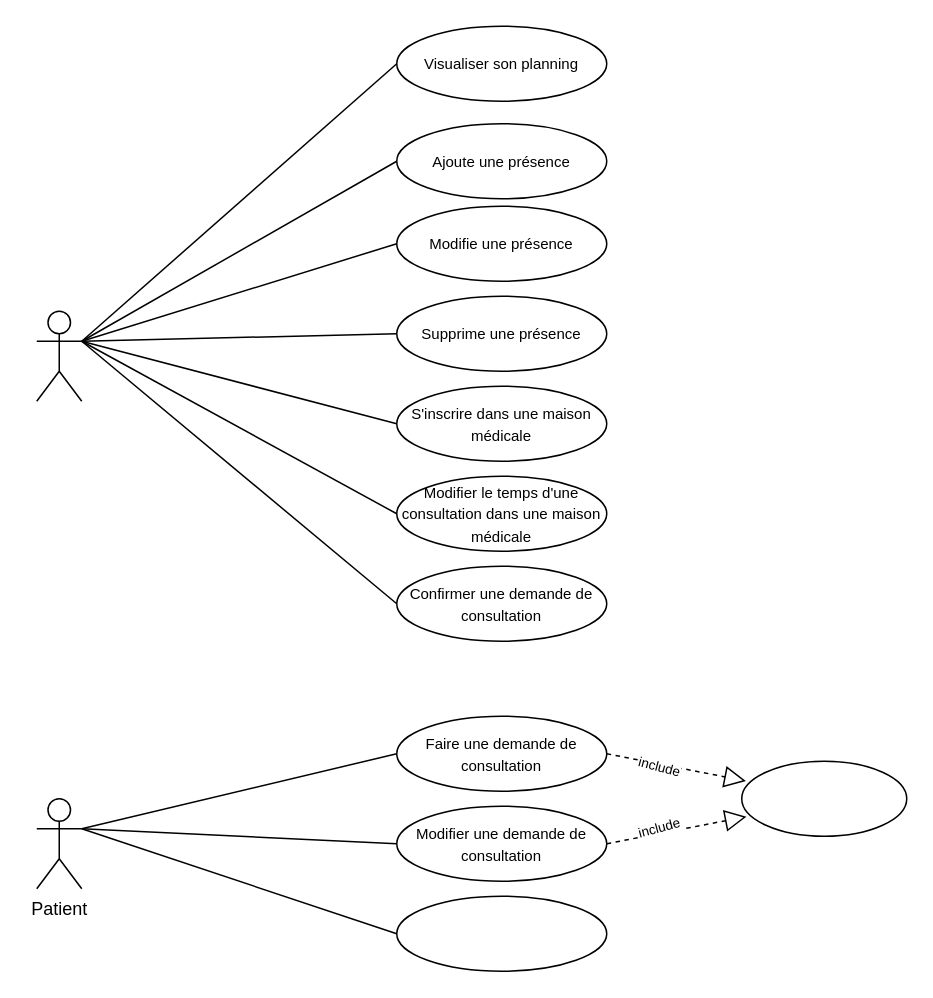
Some shapes in this 933 by 998 pixel diagram are drawn without their labels. Here are the shapes that lost their labels. From the top down, the centre of each, then its label:
the point at 58,355: Médecin
the point at 823,798: Vérifier la disponibilité d'un médecin
the point at 501,933: Supprimer une demande de consultation
